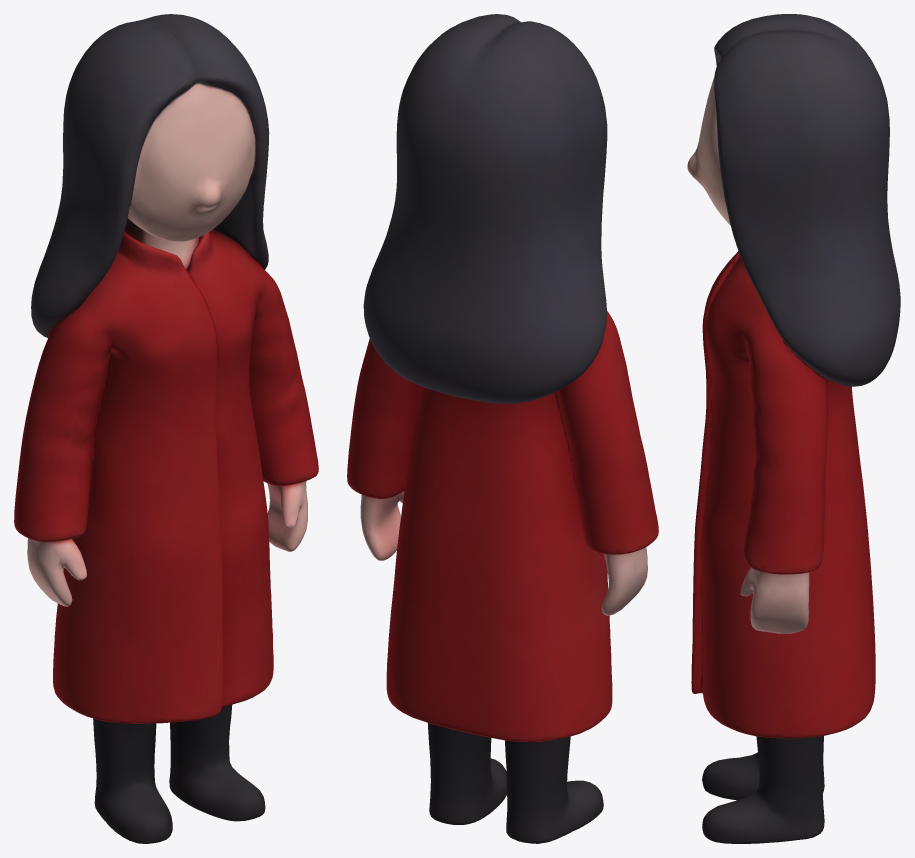
Rendered from woman_red.glb.
The picture shows the model from 3 angles, left to right: view 1: azimuth 30°, elevation 25°; view 2: azimuth 150°, elevation 25°; view 3: azimuth 270°, elevation 25°; orthographic projection. The views are drawn at different scales.
Parts seen in each view (by area): view 1: Mesh; view 2: Mesh; view 3: Mesh.
Part boxes in pixels (<box>): Mesh: <box>14,14,318,843</box>; Mesh: <box>347,14,658,843</box>; Mesh: <box>687,14,900,843</box>.
Bounding box in the file's own units: 0.7454 × 1.89 × 0.4654.
Materials: 1 (1 with a texture image).
